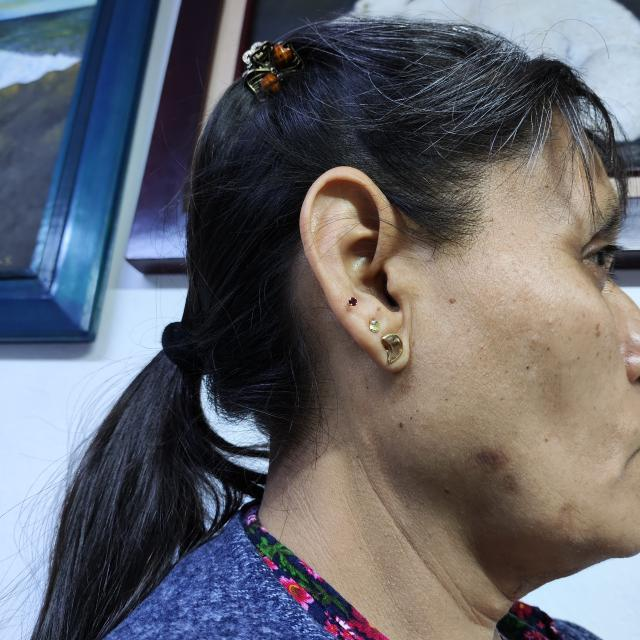ear: (300, 166, 419, 372)
